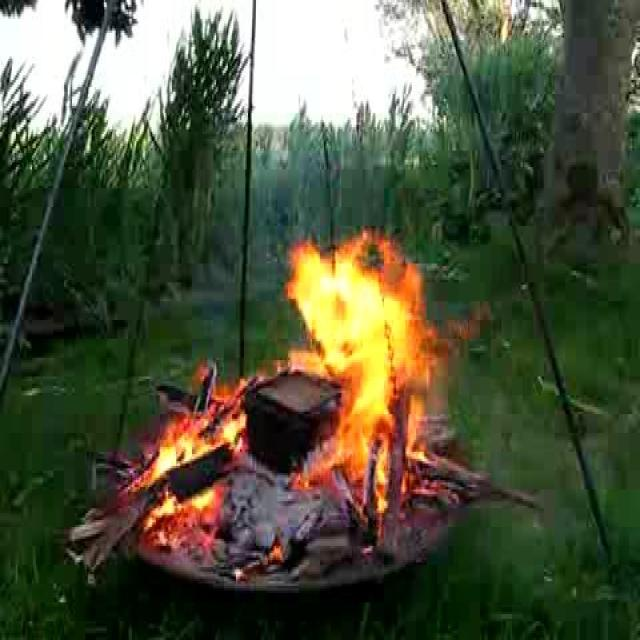fire: (283, 231, 427, 504)
